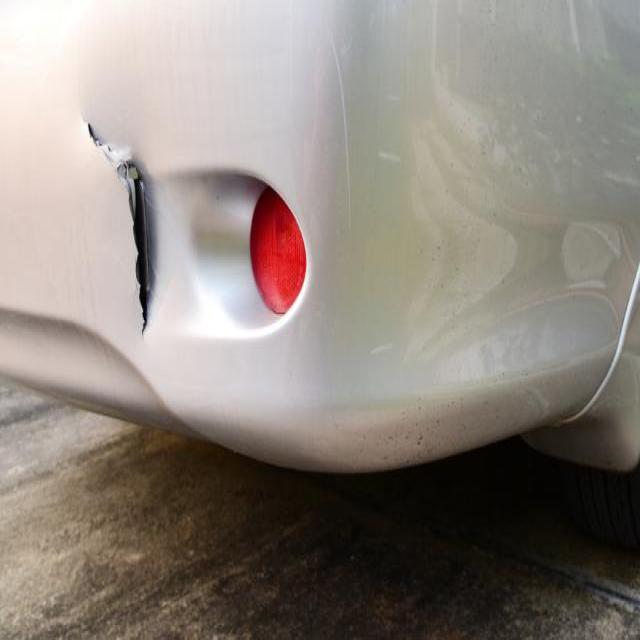Dent: (0, 300, 154, 414), (86, 122, 152, 335), (322, 13, 351, 228), (549, 566, 640, 619), (98, 138, 133, 180), (521, 383, 550, 418), (599, 167, 639, 192), (2, 460, 30, 482), (490, 140, 510, 167), (86, 119, 104, 147), (528, 123, 553, 143), (377, 149, 400, 162), (369, 341, 392, 353), (140, 308, 148, 335), (106, 142, 111, 152), (145, 282, 150, 292)
